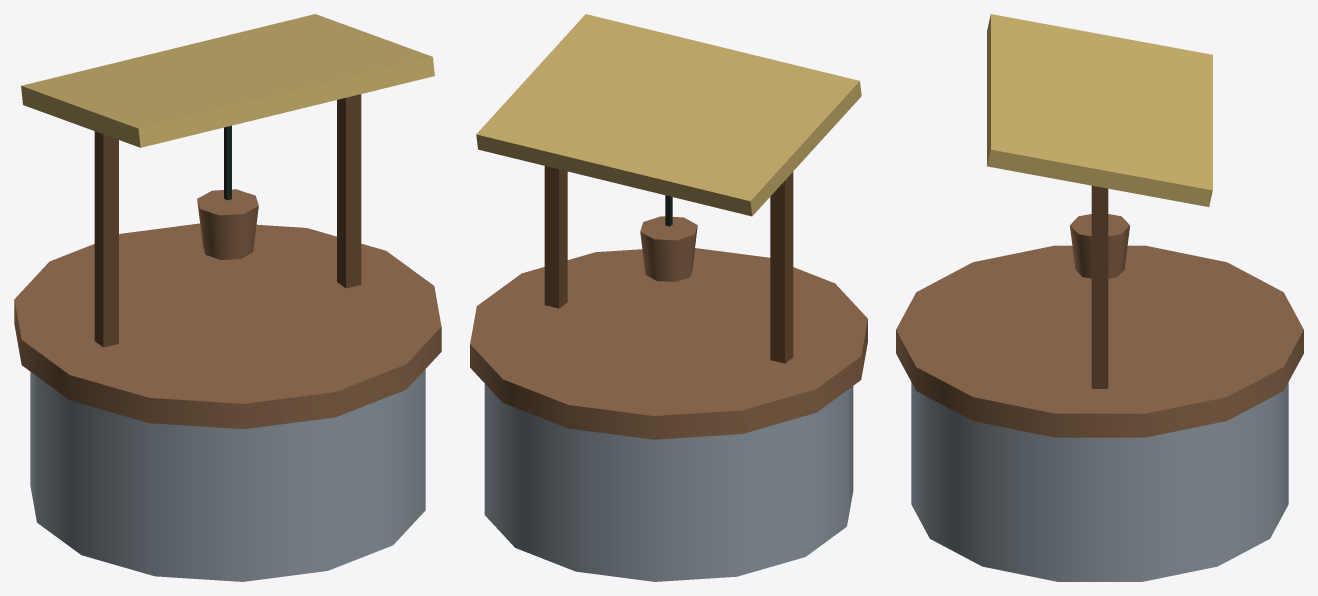
The model's file is well.glb.
3 views of the same model, side by side, from view 1: azimuth 30°, elevation 25°; view 2: azimuth 150°, elevation 25°; view 3: azimuth 270°, elevation 25° (orthographic). The views are drawn at different scales.
Visible parts, largest first — view 1: well; view 2: well; view 3: well.
Part boxes in pixels (bbox=[...]): well: bbox=[14, 14, 441, 581]; well: bbox=[470, 14, 867, 581]; well: bbox=[896, 14, 1303, 581].
Bounding box in the file's own units: 2.11 × 2.47 × 2.16.
